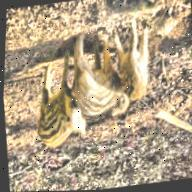boar: (16, 58, 86, 167), (69, 38, 128, 134), (110, 24, 167, 106)
